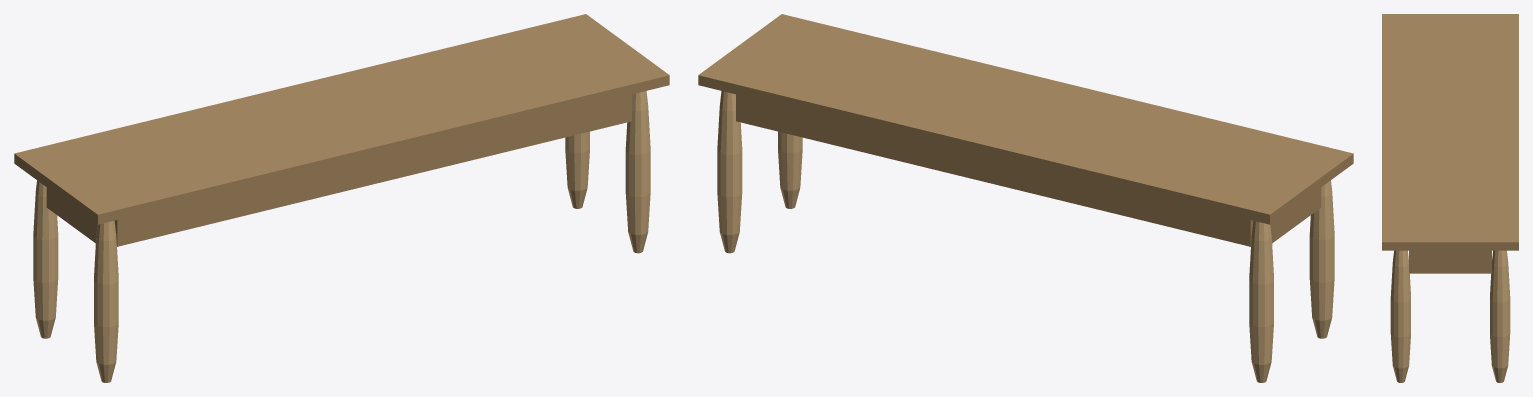
The model's file is SAB-DBN-std.glb.
3 renders of one model, left to right at view 1: azimuth 30°, elevation 25°; view 2: azimuth 150°, elevation 25°; view 3: azimuth 270°, elevation 25°, orthographic. The views are drawn at different scales.
Parts seen in each view (by area): view 1: top:pbr, apron-f:pbr, leg-fl:pbr, leg-fr:pbr, leg-bl:pbr, leg-br:pbr, apron-l:pbr; view 2: top:pbr, apron-b:pbr, leg-bl:pbr, leg-br:pbr, leg-fl:pbr, leg-fr:pbr, apron-l:pbr; view 3: top:pbr, leg-fr:pbr, leg-br:pbr, apron-r:pbr.
Part boxes in pixels (x1=…): top:pbr: x1=14, y1=14, x2=669, y2=224; apron-f:pbr: x1=114, y1=94, x2=631, y2=246; leg-fl:pbr: x1=94, y1=220, x2=118, y2=382; leg-fr:pbr: x1=625, y1=91, x2=650, y2=253; leg-bl:pbr: x1=33, y1=180, x2=58, y2=338; leg-br:pbr: x1=565, y1=131, x2=589, y2=208; apron-l:pbr: x1=46, y1=187, x2=97, y2=243; top:pbr: x1=698, y1=14, x2=1353, y2=224; apron-b:pbr: x1=736, y1=94, x2=1253, y2=246; leg-bl:pbr: x1=1249, y1=220, x2=1273, y2=382; leg-br:pbr: x1=717, y1=91, x2=742, y2=253; leg-fl:pbr: x1=1309, y1=180, x2=1334, y2=338; leg-fr:pbr: x1=778, y1=131, x2=802, y2=208; apron-l:pbr: x1=1270, y1=187, x2=1321, y2=243; top:pbr: x1=1382, y1=14, x2=1518, y2=250; leg-fr:pbr: x1=1390, y1=250, x2=1410, y2=382; leg-br:pbr: x1=1490, y1=250, x2=1510, y2=382; apron-r:pbr: x1=1409, y1=250, x2=1491, y2=273.
Size of the model in its own units: 1.5 by 0.45 by 0.38.
